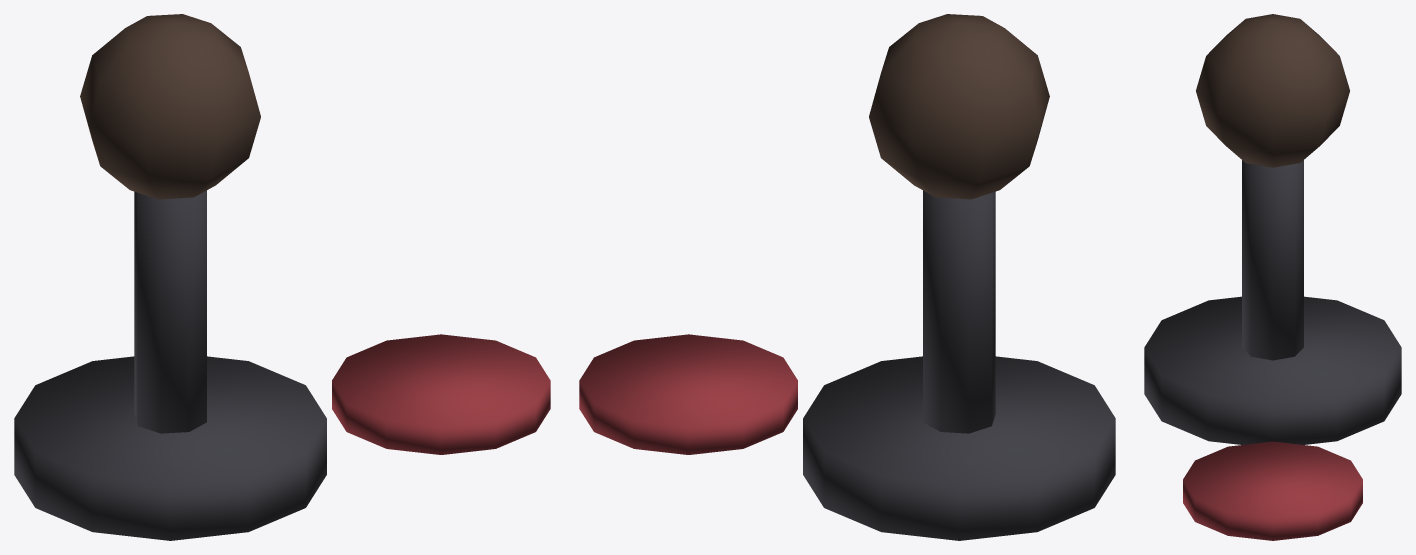
The model's file is writing_set_seal_press.glb.
3 renders of one model, left to right at view 1: azimuth 30°, elevation 25°; view 2: azimuth 150°, elevation 25°; view 3: azimuth 270°, elevation 25°, orthographic. The views are drawn at different scales.
Visible parts, largest first — view 1: GD_writing_set_seal_press__m0, GD_writing_set_seal_press__m1, GD_writing_set_seal_press__m2; view 2: GD_writing_set_seal_press__m0, GD_writing_set_seal_press__m1, GD_writing_set_seal_press__m2; view 3: GD_writing_set_seal_press__m0, GD_writing_set_seal_press__m1, GD_writing_set_seal_press__m2.
Boxes of the visible parts, box(x1,y1,x2,y2) form: GD_writing_set_seal_press__m0: box(14, 190, 326, 540); GD_writing_set_seal_press__m1: box(80, 14, 260, 199); GD_writing_set_seal_press__m2: box(332, 334, 550, 454); GD_writing_set_seal_press__m0: box(803, 190, 1115, 540); GD_writing_set_seal_press__m1: box(869, 14, 1049, 199); GD_writing_set_seal_press__m2: box(579, 334, 797, 454); GD_writing_set_seal_press__m0: box(1144, 160, 1401, 444); GD_writing_set_seal_press__m1: box(1196, 14, 1349, 167); GD_writing_set_seal_press__m2: box(1183, 441, 1362, 540).
Bounding box in the file's own units: 0.185 × 0.16 × 0.1.
